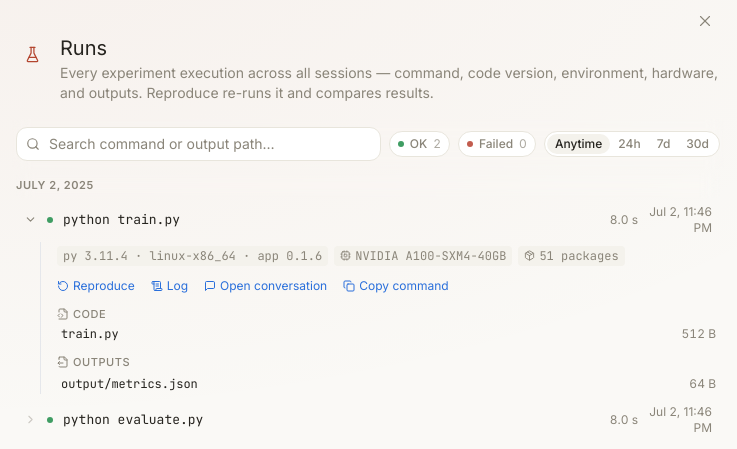
RunsPage › filters by search over command and output paths
The width and height of the screenshot is (737, 449).
Expected: the text "python train.py" is shown, [63,211,180,228]
In the field with placeholder "Search command or output path…": {"x": 198, "y": 144} [16,127,381,161], type "evaluate"
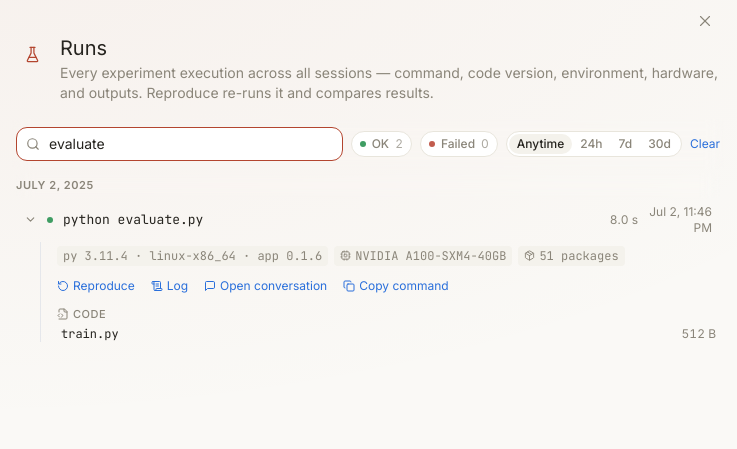
Expected: the text "python evaluate.py" is shown, [63,211,203,228]
Now the button "python train.py" is gone
